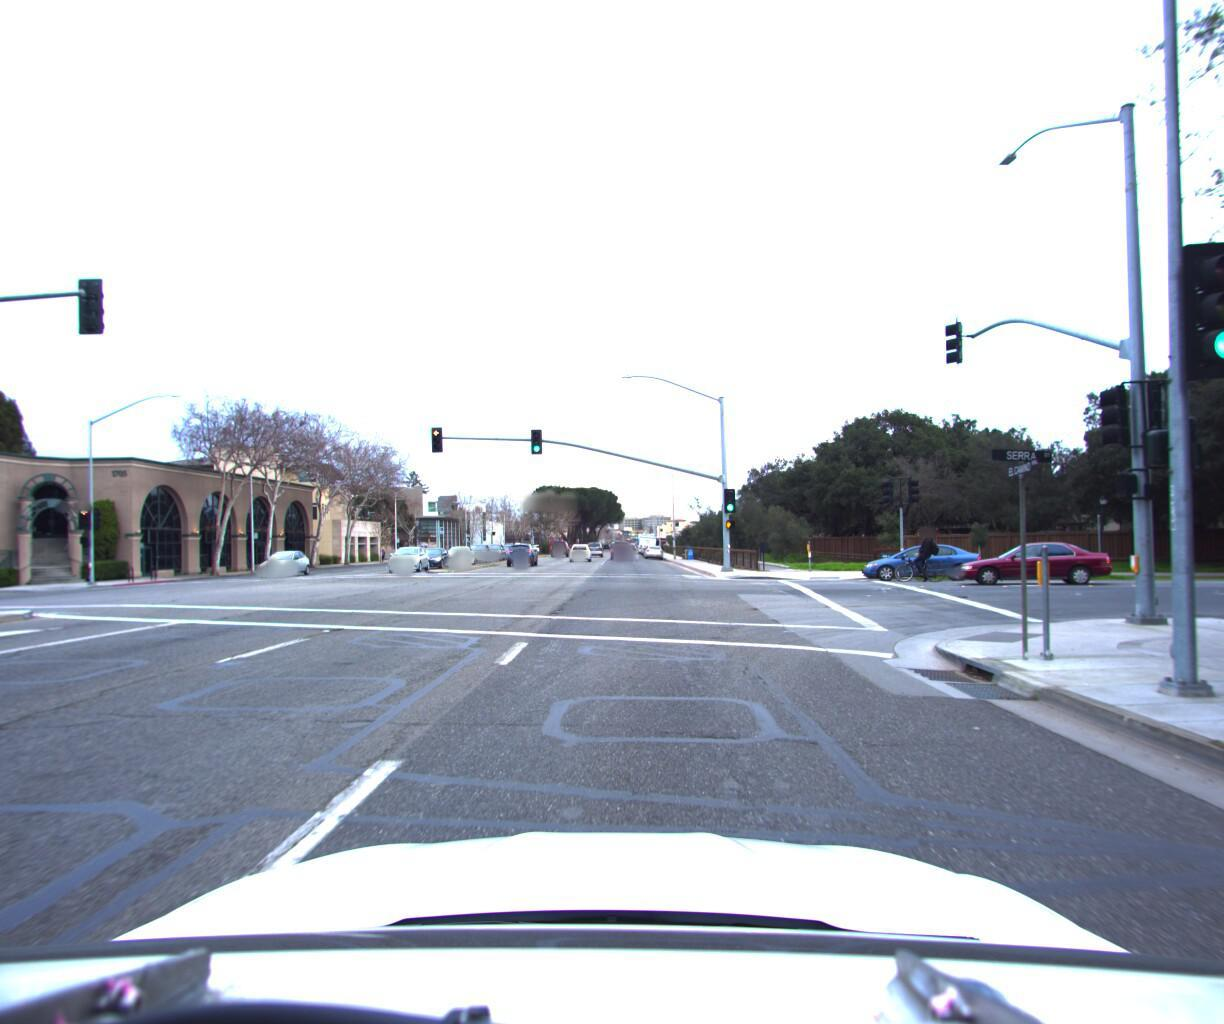bicycle: (888, 521, 947, 574)
car: (948, 533, 1114, 579), (807, 535, 923, 574), (250, 545, 313, 574), (387, 539, 433, 567), (413, 541, 454, 564), (503, 536, 538, 561), (442, 539, 477, 561), (480, 537, 506, 555), (567, 537, 592, 556), (611, 536, 633, 555), (642, 538, 661, 553)
